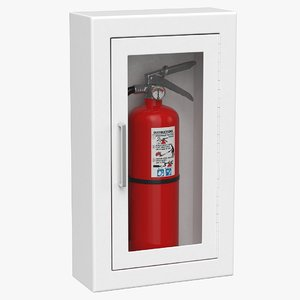fire_extinguisher: (127, 60, 196, 251)
